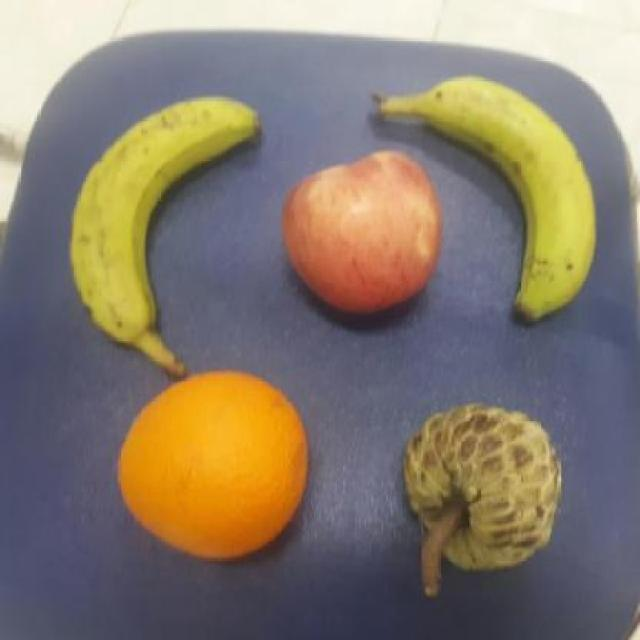apple: (281, 147, 442, 316)
banana: (369, 74, 597, 323), (72, 95, 260, 367)
oren: (113, 368, 310, 560)
sugar apple: (402, 402, 560, 569)
